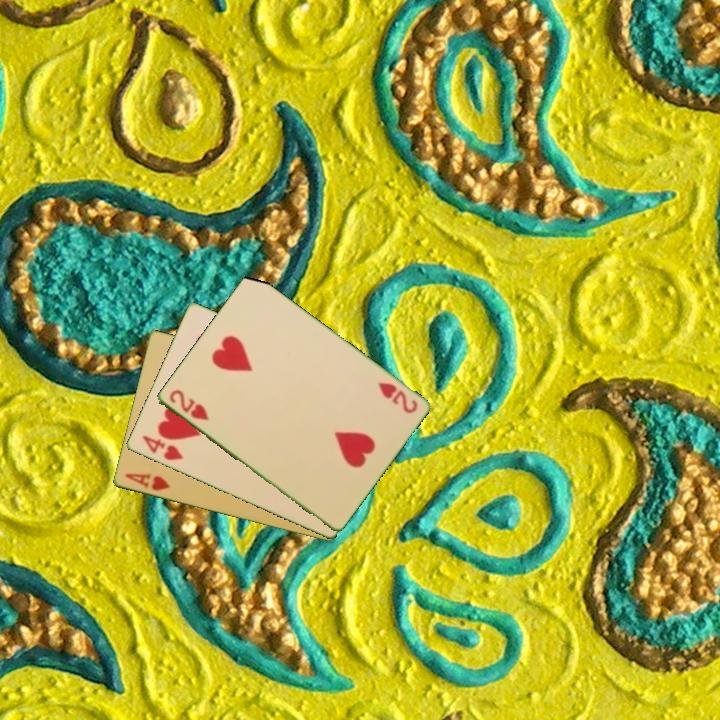2h: (165, 386, 212, 424), (374, 379, 420, 416)
4h: (138, 432, 186, 463)
Ah: (122, 470, 173, 494)
